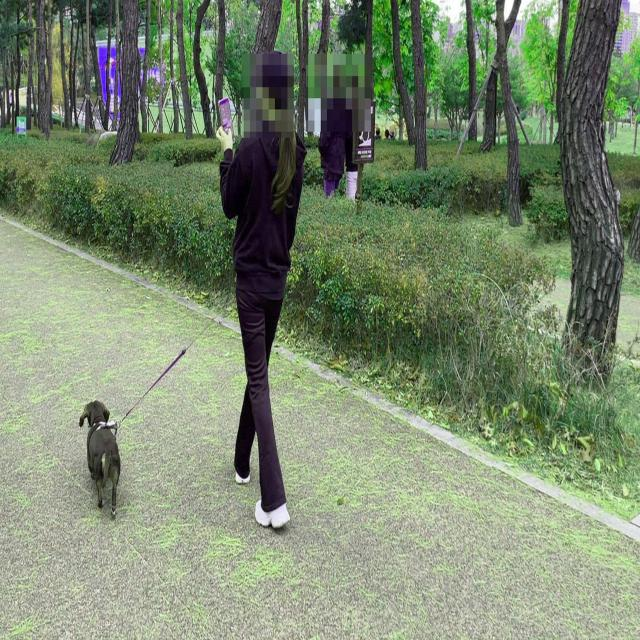Leashed_Dog: (79, 274, 259, 520)
